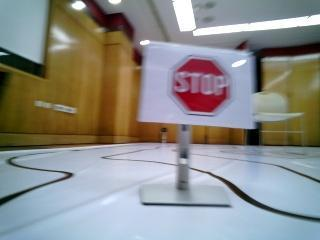stop: (153, 49, 248, 122)
